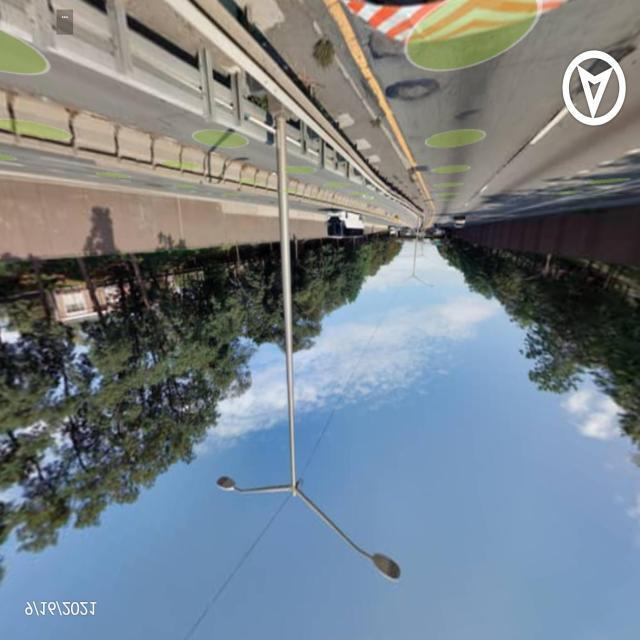off: (200, 403, 446, 620)
